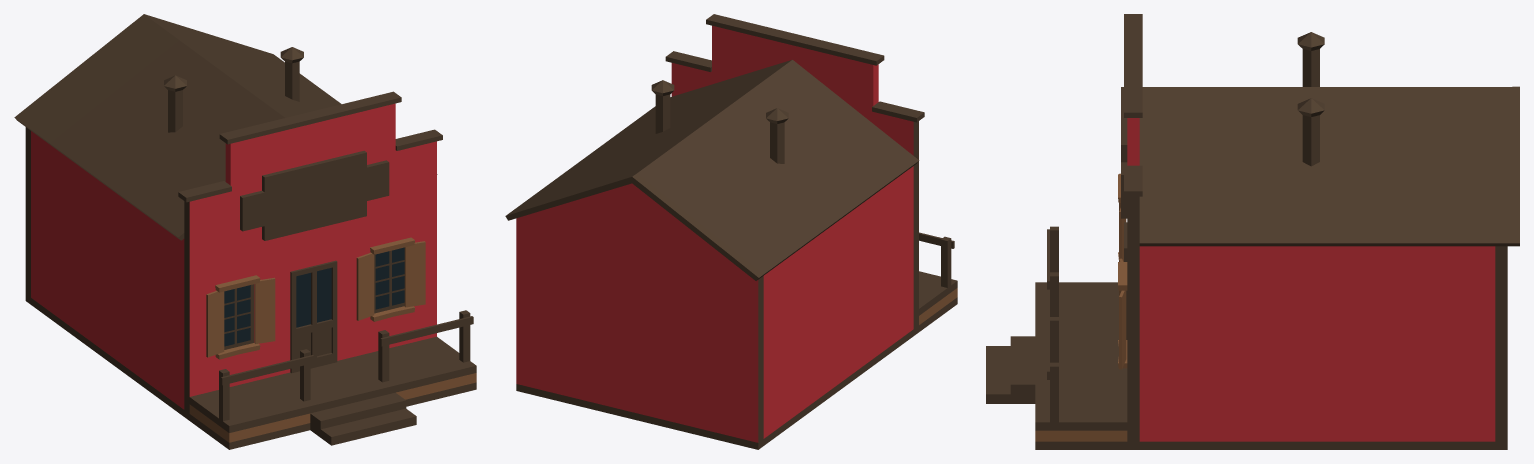
The model's file is gunsmith-western.glb.
3 views of the same model, side by side, from view 1: azimuth 30°, elevation 25°; view 2: azimuth 150°, elevation 25°; view 3: azimuth 270°, elevation 25° (orthographic). The views are drawn at different scales.
Parts seen in each view (by area): view 1: gunsmith-western; view 2: gunsmith-western; view 3: gunsmith-western.
Boxes of the visible parts, box(x1,y1,x2,y2) form: gunsmith-western: box(14, 14, 476, 449); gunsmith-western: box(505, 14, 957, 449); gunsmith-western: box(986, 14, 1519, 449).
Bounding box in the file's own units: 5.66 × 5.7 × 8.7.
1 material, 1 textured.
